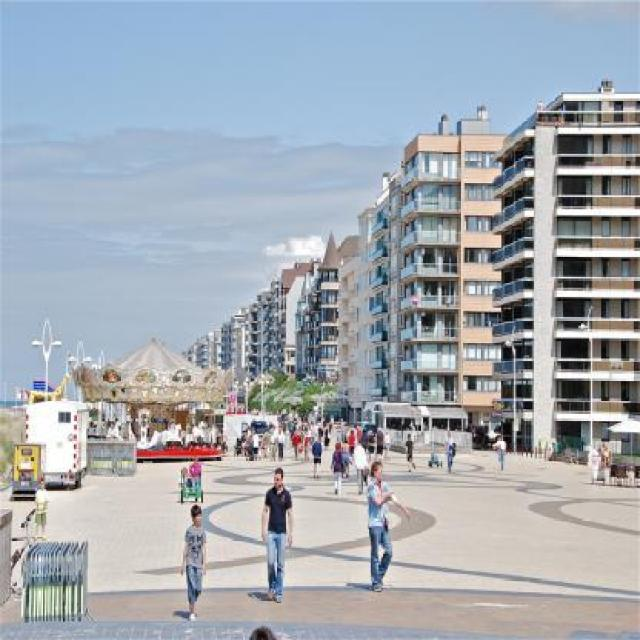Person: (363, 463, 409, 597), (258, 472, 292, 603), (178, 508, 207, 617), (32, 478, 46, 539)
